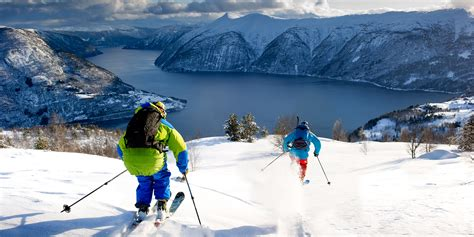skier: (59, 99, 212, 236), (259, 115, 340, 191)
